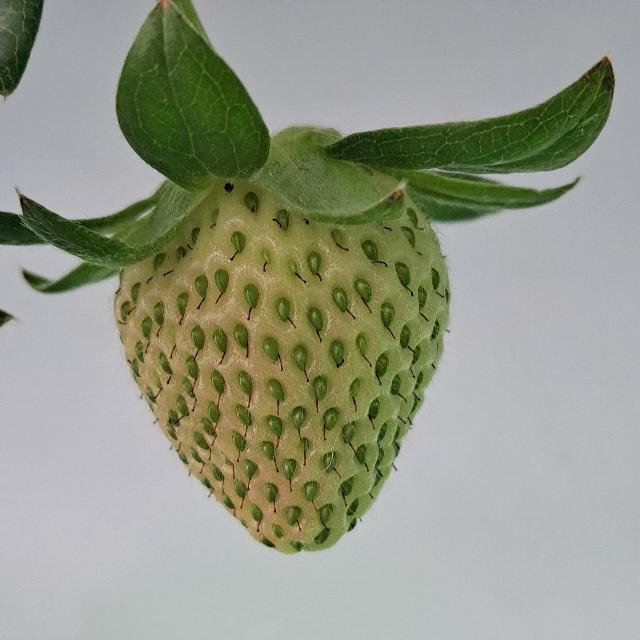Health_25: (113, 181, 450, 553)
